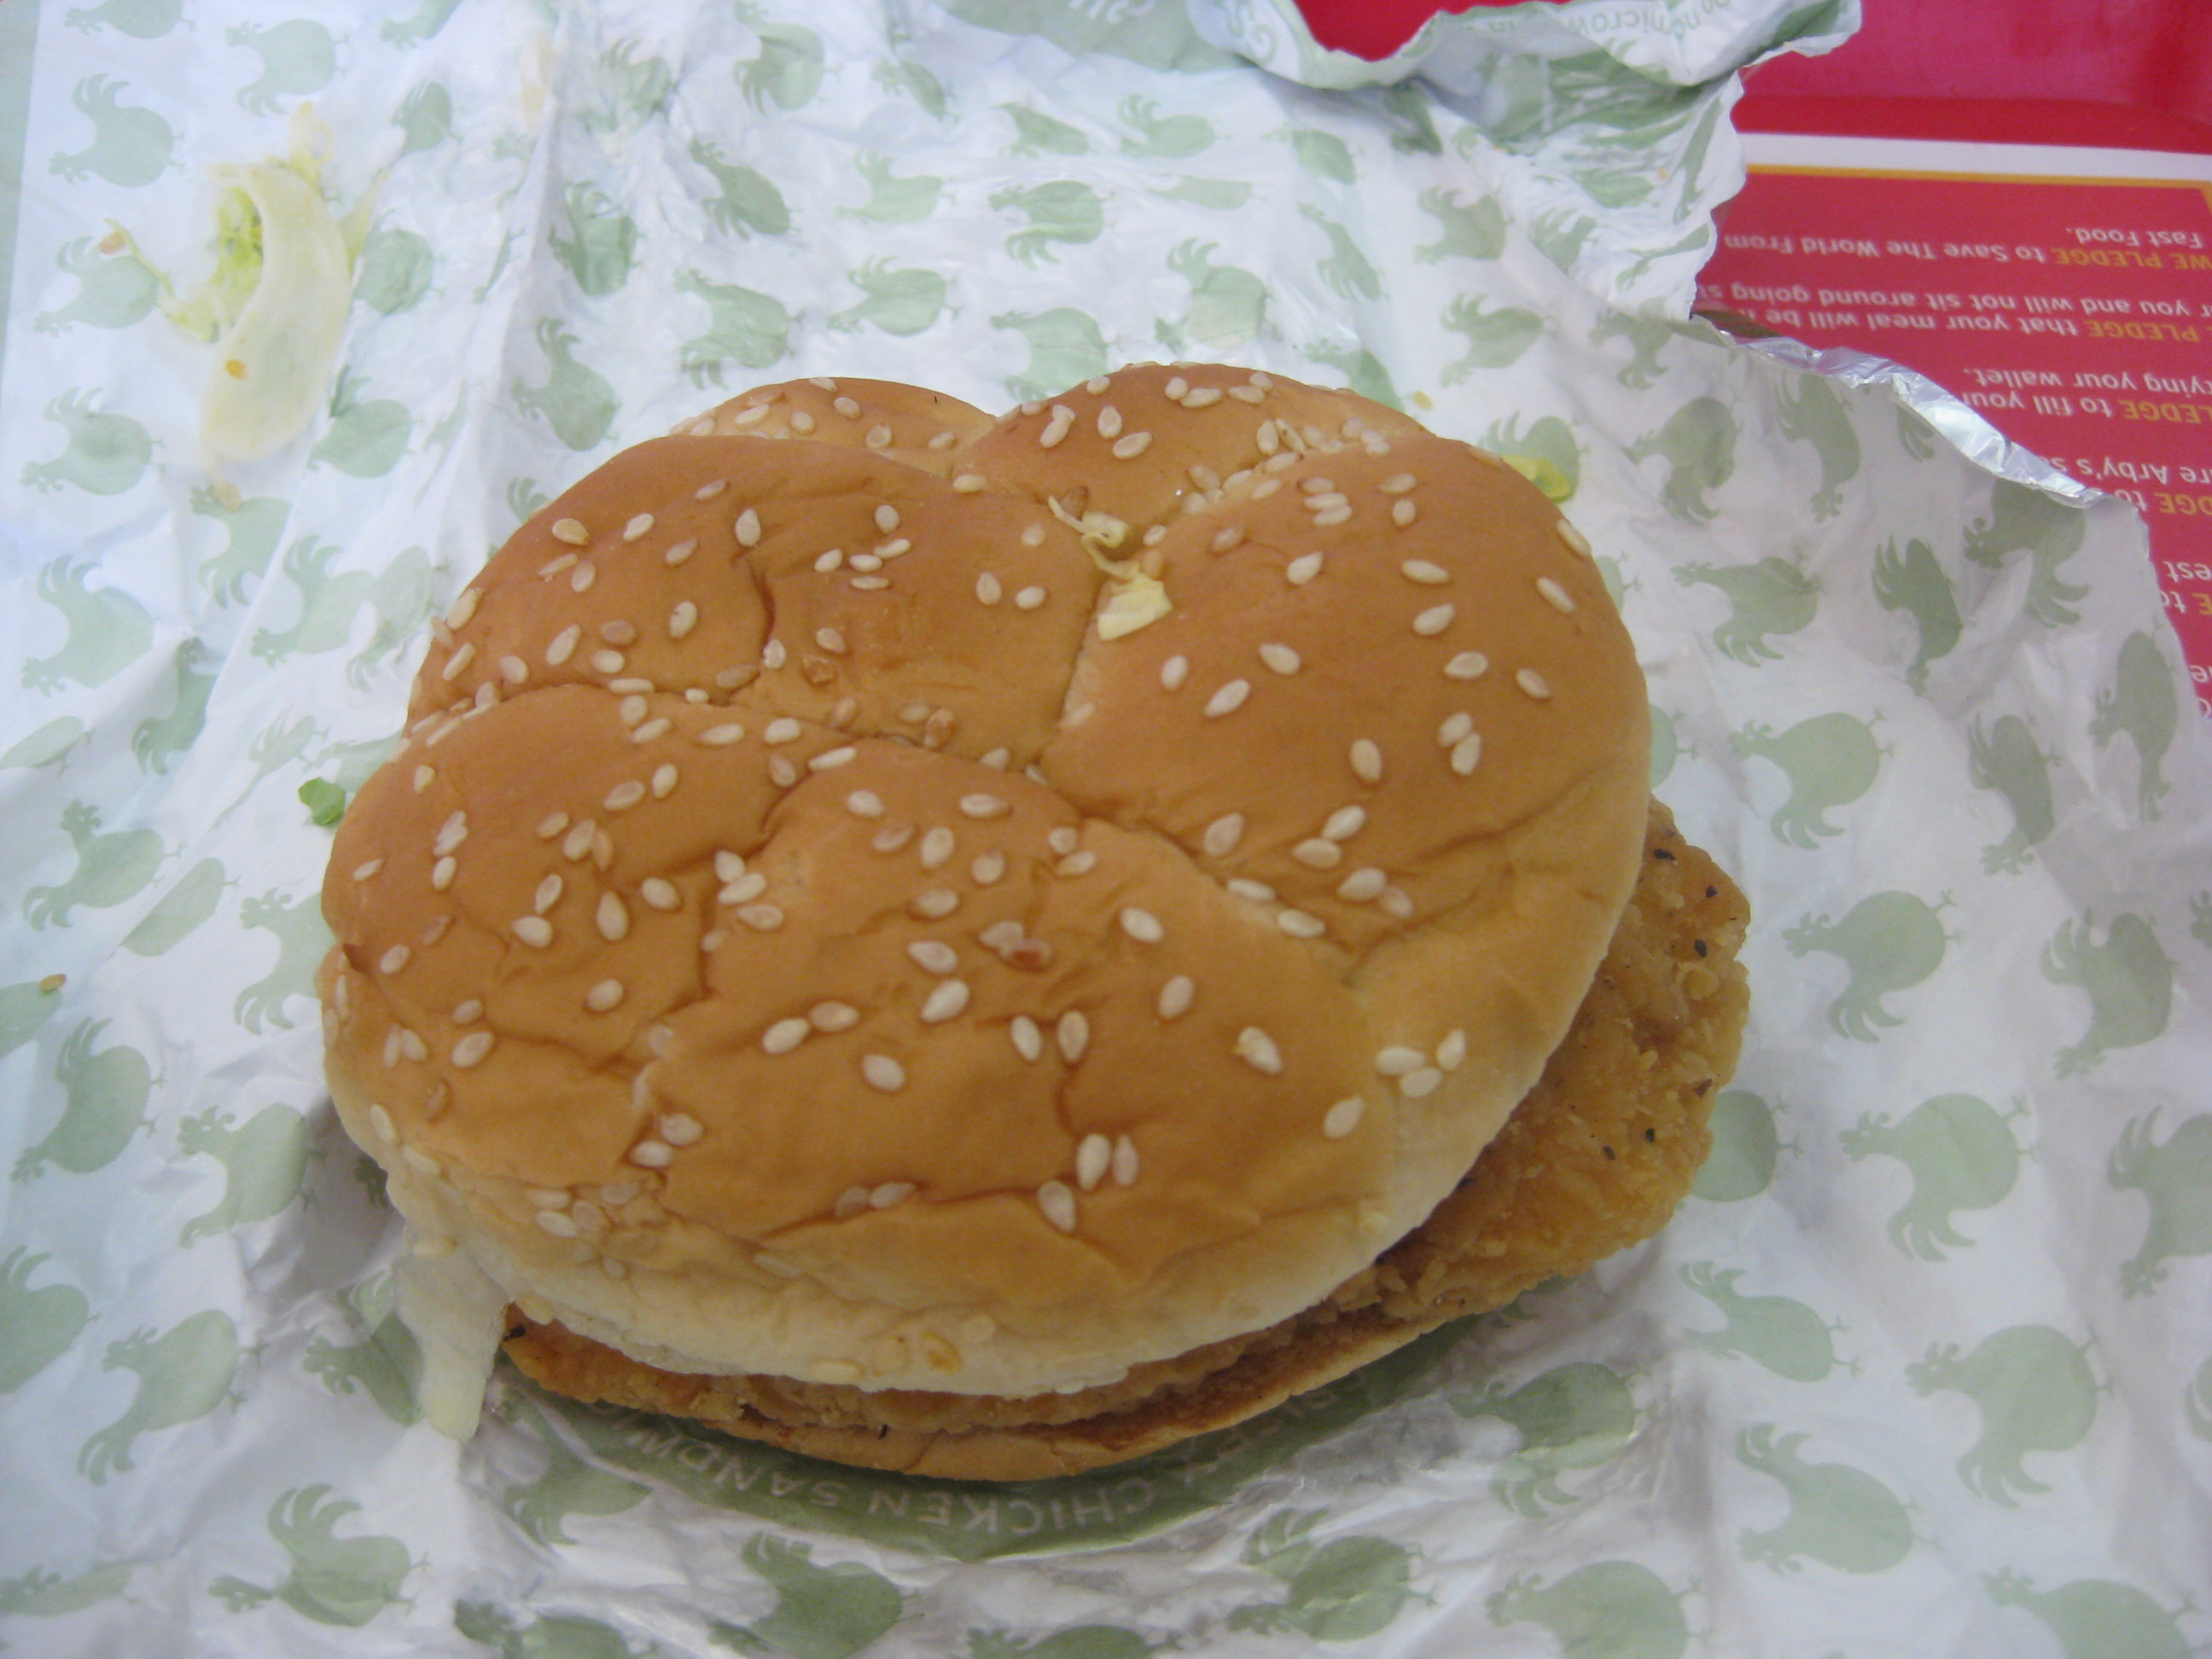burger: (298, 262, 1790, 1457)
